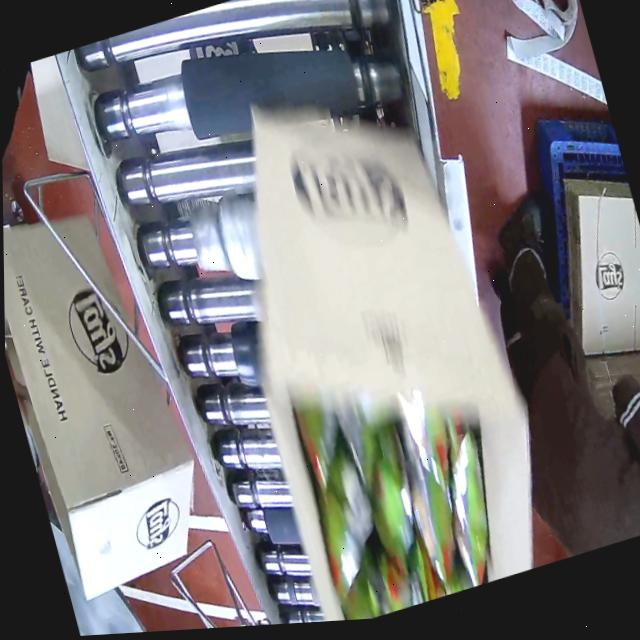YOGURT_HERB: (285, 354, 505, 623)
